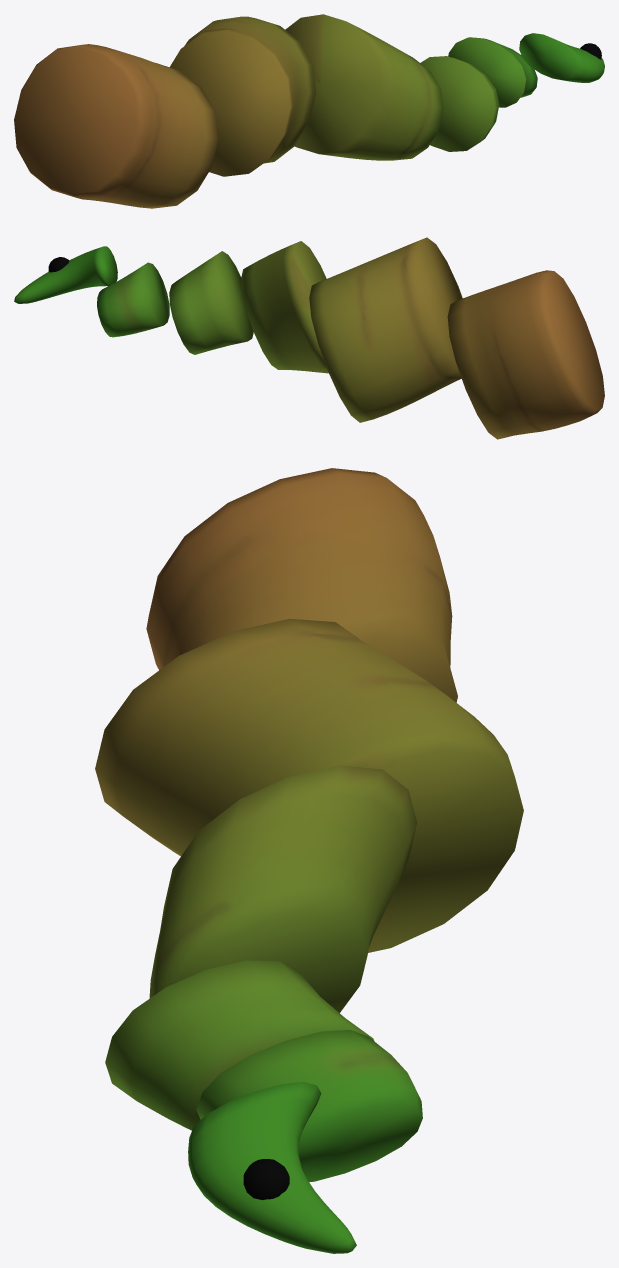
File: RaizMedusa_cortada.fbx
3 renders of one model, top to bottom at view 1: azimuth 30°, elevation 25°; view 2: azimuth 150°, elevation 25°; view 3: azimuth 270°, elevation 25°, orthographic. The views are drawn at different scales.
Parts seen in each view (by area): view 1: RaizAncestral_cortada.001; view 2: RaizAncestral_cortada.001; view 3: RaizAncestral_cortada.001.
Boxes of the visible parts, x1=… form: RaizAncestral_cortada.001: x1=14, y1=14, x2=604, y2=208; RaizAncestral_cortada.001: x1=14, y1=237, x2=604, y2=439; RaizAncestral_cortada.001: x1=95, y1=468, x2=523, y2=1253.
Bounding box in the file's own units: 230 × 62.38 × 74.8.
1 material, 1 textured.
